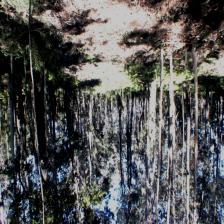trunktrack_idkeyframe: (33, 71, 46, 143), (191, 48, 198, 123), (159, 50, 164, 107)
